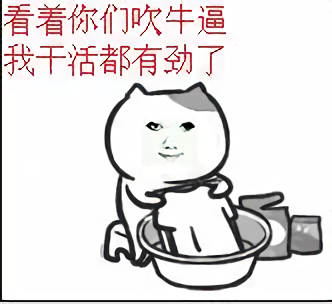dragon: (146, 117, 196, 161)
